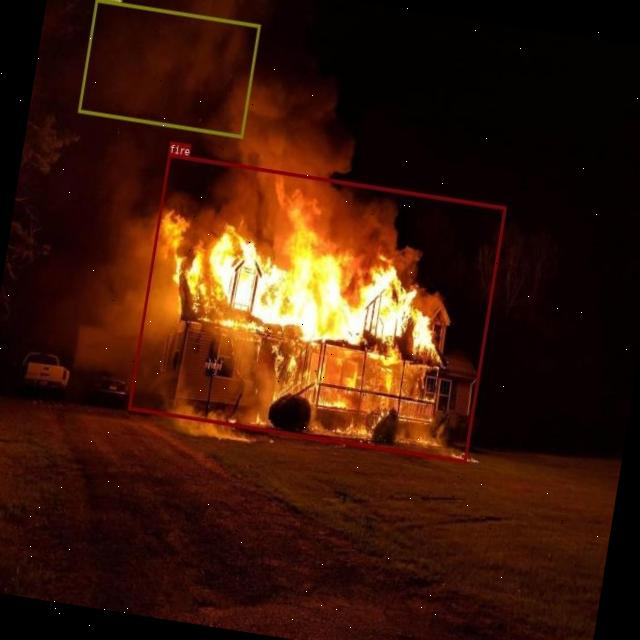fire: (128, 154, 506, 462)
smoke: (77, 0, 260, 138)
